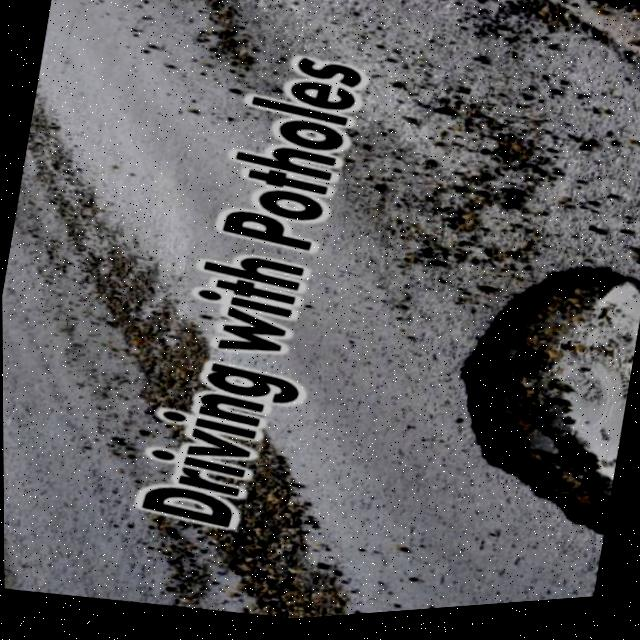Pothole: (348, 196, 640, 589)
